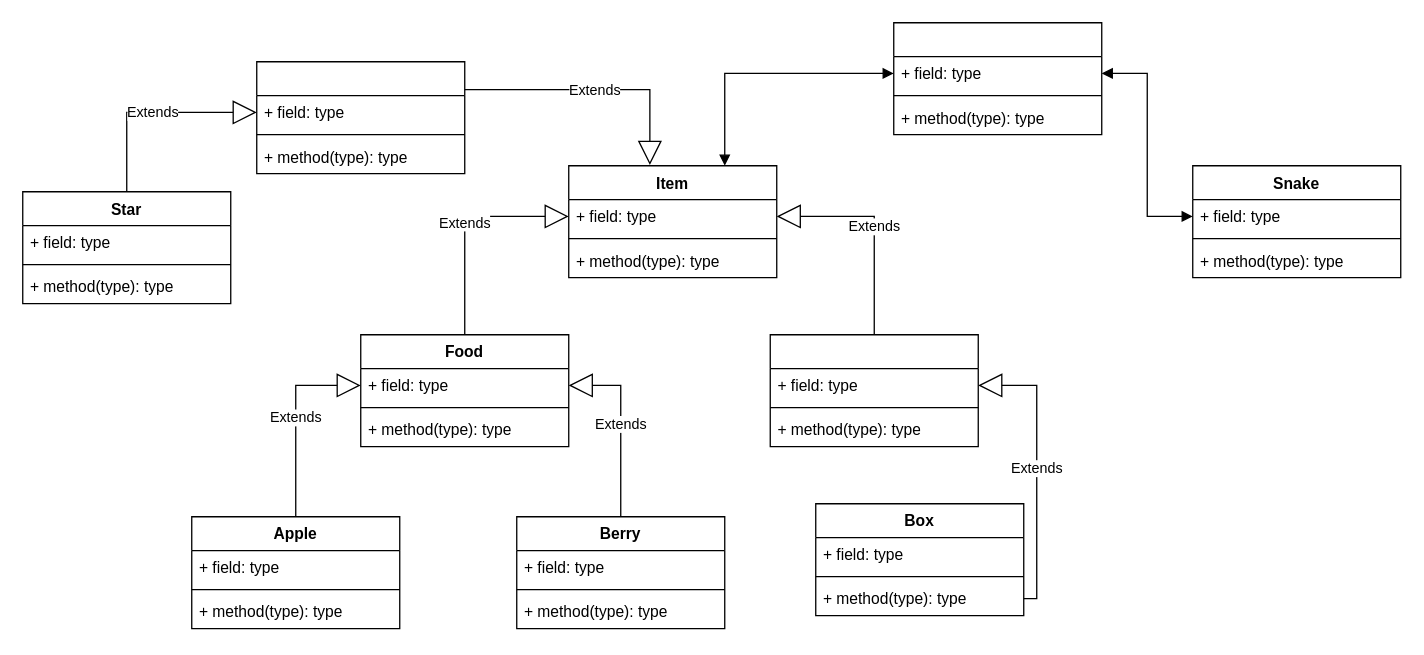
Some shapes in this 1424 by 655 pixel diagram are drawn without their labels. The shapes that lost their labels are listed below. From the top down, each one's box as (x1, y1, x2, y2) in pixels, then its label:
(892, 21, 1102, 135): GameScene
(255, 60, 465, 174): Powerup
(769, 333, 978, 447): Obstacle
